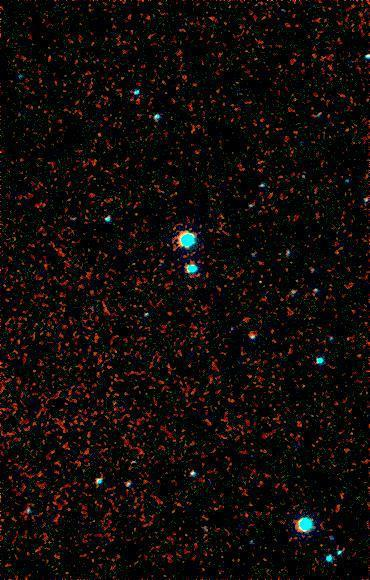star: (249, 265, 279, 295)
